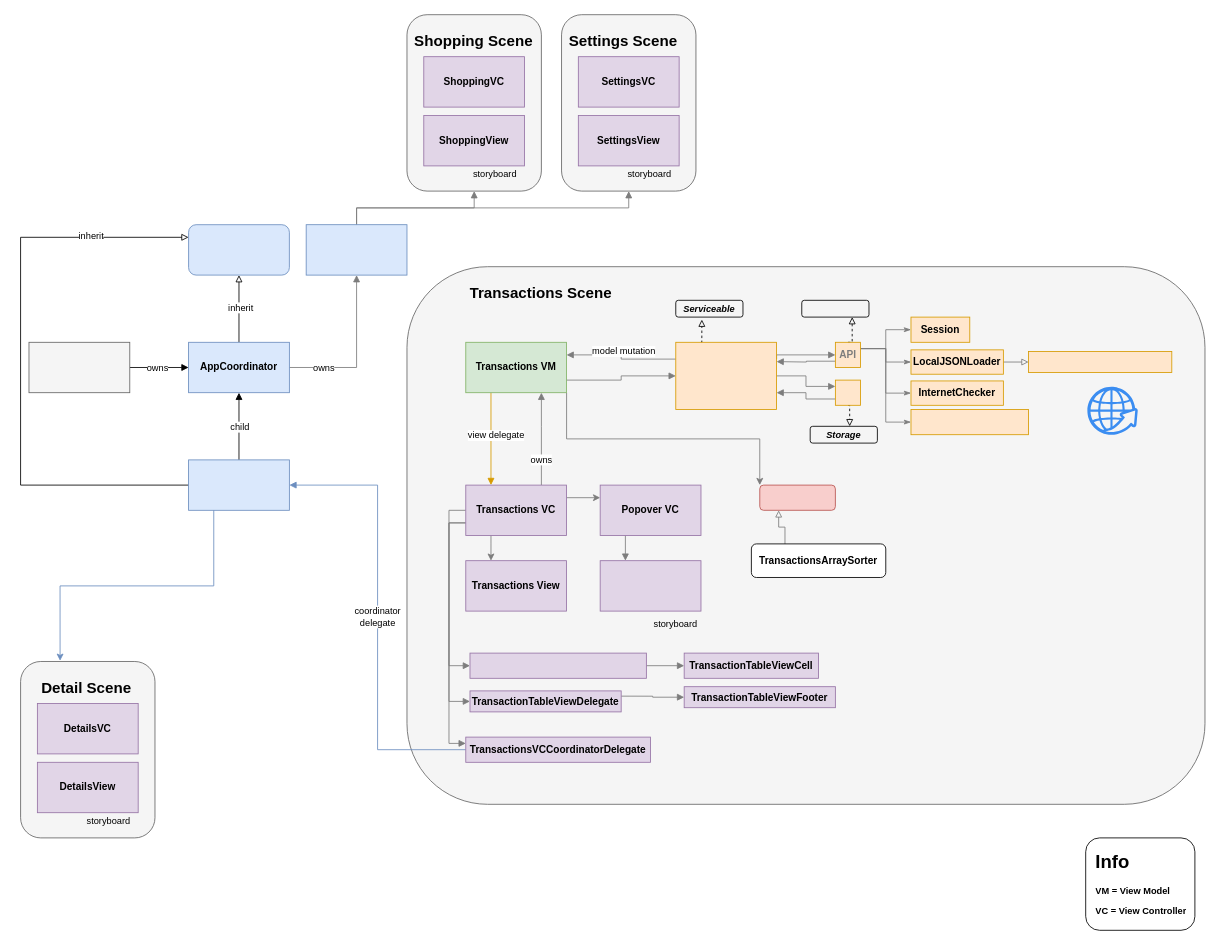
This 1220x945 diagram has some shape labels left out. The shapes that lost their labels are listed below. From the top down, each one's centre as x and y in pixels, then its label:
the point at 238,249: Coordinator base class
the point at 356,249: Root Tab Bar Controller
the point at 835,308: Networkable
the point at 79,367: AppDelegate SceneDelegate
the point at 726,375: Services
the point at 1100,362: LocalJSONLoaderInterface
the point at 848,392: DB
the point at 969,422: TransactionsAPIErrors
the point at 238,484: Transaction Coordinator
the point at 797,497: ArraySorter
the point at 650,585: Popover View
the point at 557,665: TransactionsTableViewDataSource
